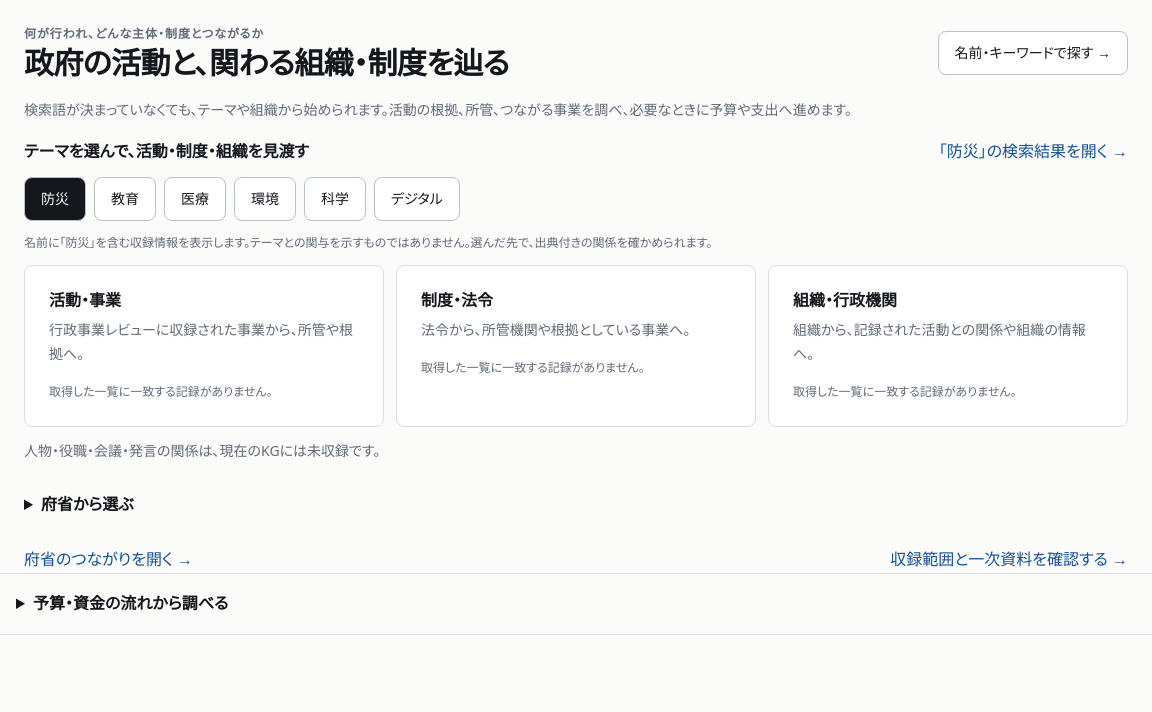
Scenario: TopPage(トップページ再設計) › 資金の流れ: APIが事業のIRIを返さない版でも壊れず、リンクを出さない
What coordinates should you click on to do the following:
click the heading "予算・資金の流れから調べる"
I would click on:
 (131, 603)
Its box is [0,573,1151,635].
(page scrolled)
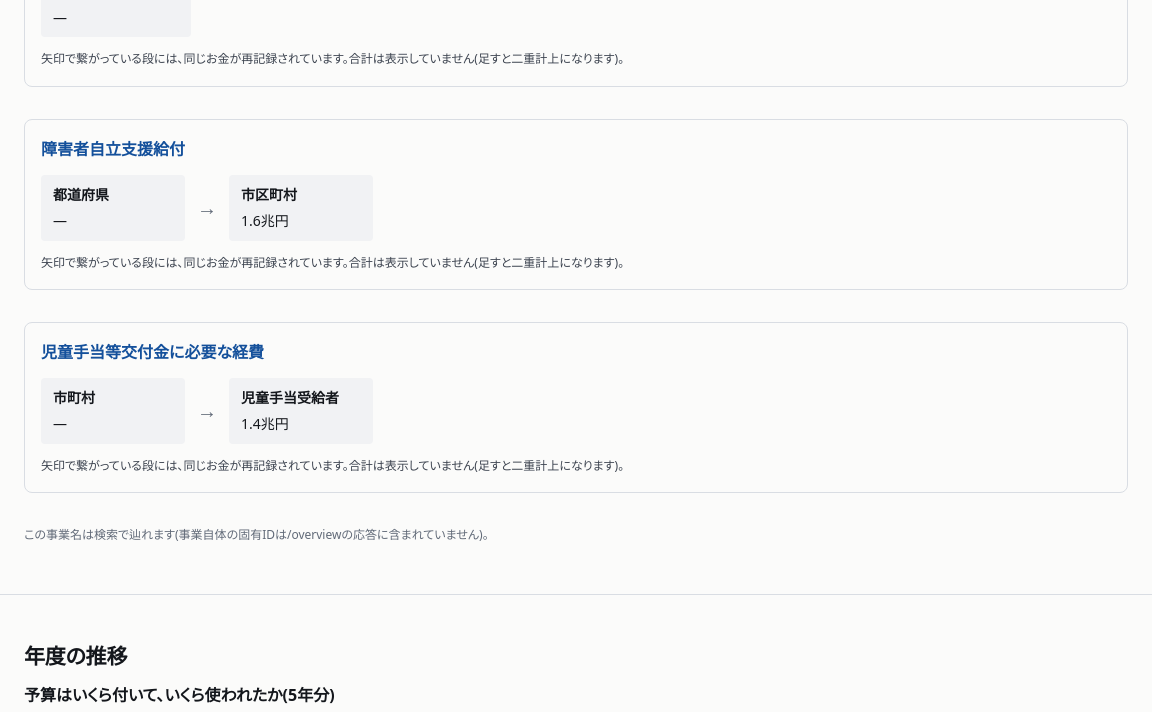
Expected: the number of elements with class "jg-flow__title" is 4
